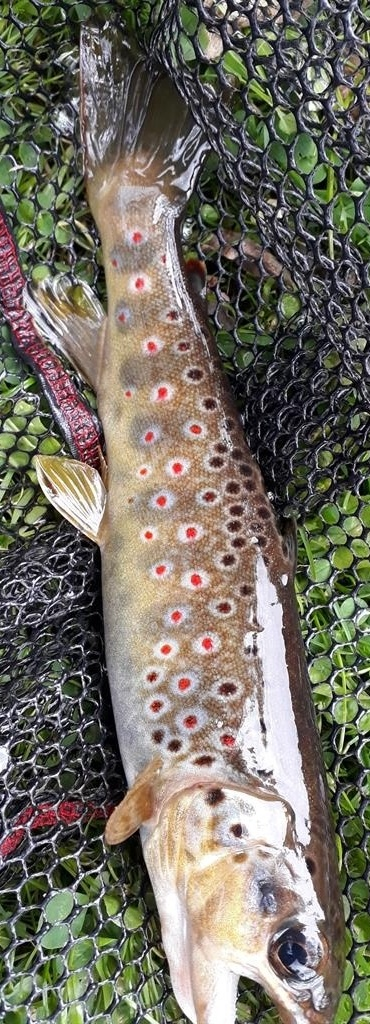Salmo trutta subsp. fario: (20, 1, 350, 1024)
